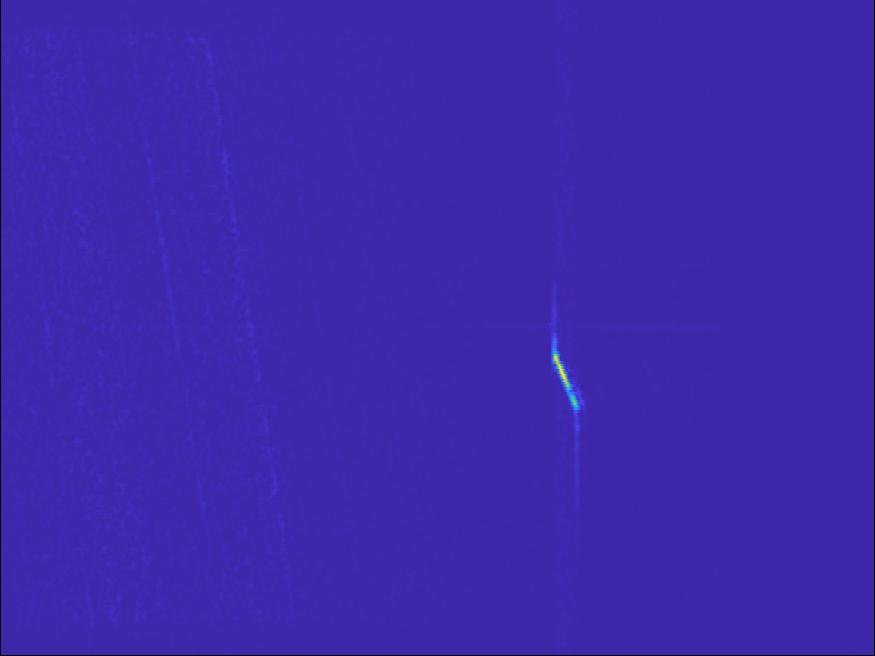Interference: (75, 539, 147, 585)
